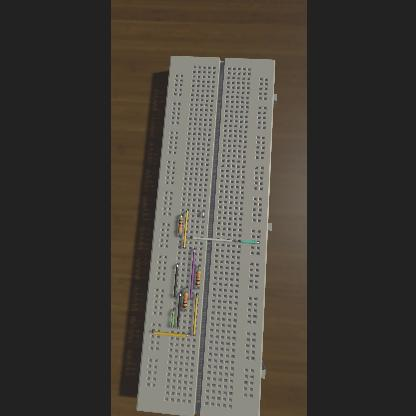breadboard: (134, 56, 276, 416)
resistor: (194, 270, 199, 286), (177, 218, 182, 233), (182, 293, 186, 309)
wire: (189, 248, 195, 300), (150, 329, 188, 337), (189, 236, 233, 242), (172, 263, 178, 299), (182, 210, 187, 248), (192, 294, 196, 336), (176, 292, 180, 328), (236, 240, 258, 244), (170, 308, 174, 328), (184, 286, 186, 292), (180, 214, 182, 218), (178, 233, 180, 236), (202, 211, 202, 217), (198, 264, 198, 270), (196, 286, 196, 290), (184, 309, 184, 311)
